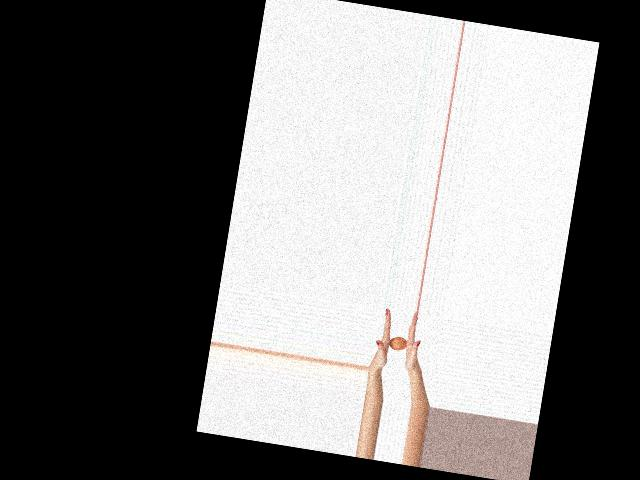egg: (389, 336, 407, 351)
